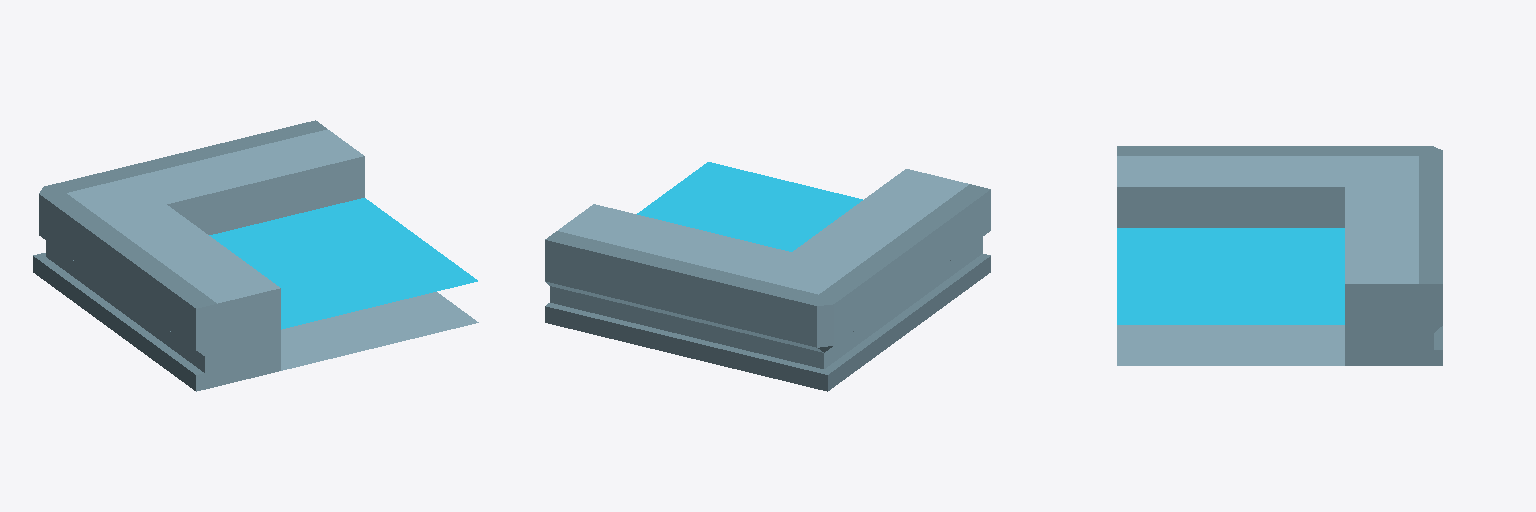
The model's file is fountainCorner.obj.
The picture shows the model from 3 angles: view 1: azimuth 30°, elevation 25°; view 2: azimuth 150°, elevation 25°; view 3: azimuth 270°, elevation 25°; orthographic projection.
Parts seen in each view (by area): view 1: fountainCorner; view 2: fountainCorner; view 3: fountainCorner.
Boxes of the visible parts, x1=… form: fountainCorner: x1=33, y1=120, x2=478, y2=391; fountainCorner: x1=545, y1=162, x2=990, y2=391; fountainCorner: x1=1117, y1=146, x2=1442, y2=365.
Bounding box in the file's own units: 1 × 0.28 × 1.